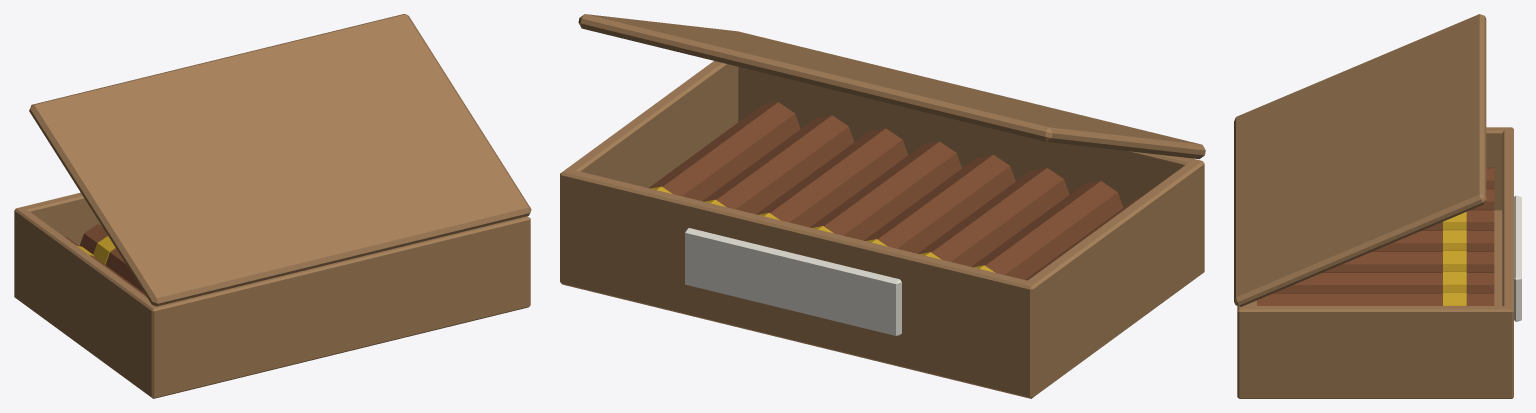
Rendered from prop_valuables_cigar_box.glb.
3 renders of one model, left to right at view 1: azimuth 30°, elevation 25°; view 2: azimuth 150°, elevation 25°; view 3: azimuth 270°, elevation 25°, orthographic. The views are drawn at different scales.
Visible parts, largest first — view 1: Box; view 2: Box; view 3: Box.
Part boxes in pixels (bbox=[...]): Box: bbox=[14, 14, 531, 398]; Box: bbox=[560, 14, 1205, 398]; Box: bbox=[1234, 14, 1521, 398].
Size of the model in its own units: 0.22 by 0.1138 by 0.1457.
